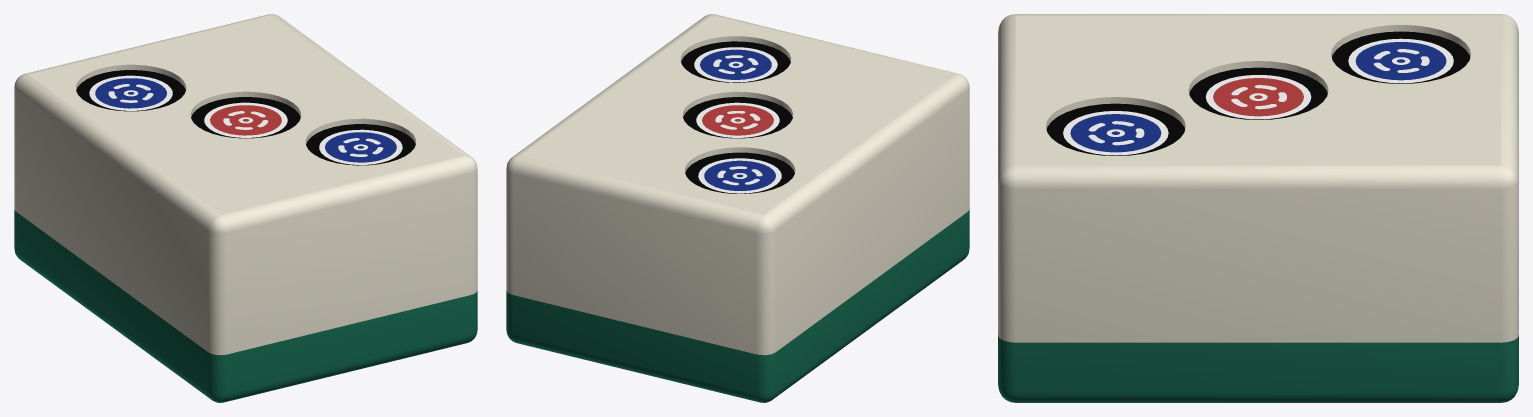
The model's file is Pin3.glb.
3 renders of one model, left to right at view 1: azimuth 30°, elevation 25°; view 2: azimuth 150°, elevation 25°; view 3: azimuth 270°, elevation 25°, orthographic. The views are drawn at different scales.
Visible parts, largest first — view 1: Pin3_body, Pin3_inset; view 2: Pin3_body, Pin3_inset; view 3: Pin3_body, Pin3_inset.
Boxes of the visible parts, x1,y1,x2,y2 form: Pin3_body: (14, 14, 477, 402); Pin3_inset: (76, 70, 415, 165); Pin3_body: (506, 14, 969, 402); Pin3_inset: (681, 41, 794, 193); Pin3_body: (998, 14, 1518, 402); Pin3_inset: (1046, 31, 1470, 155).
Size of the model in its own units: 0.024 by 0.016 by 0.032.
